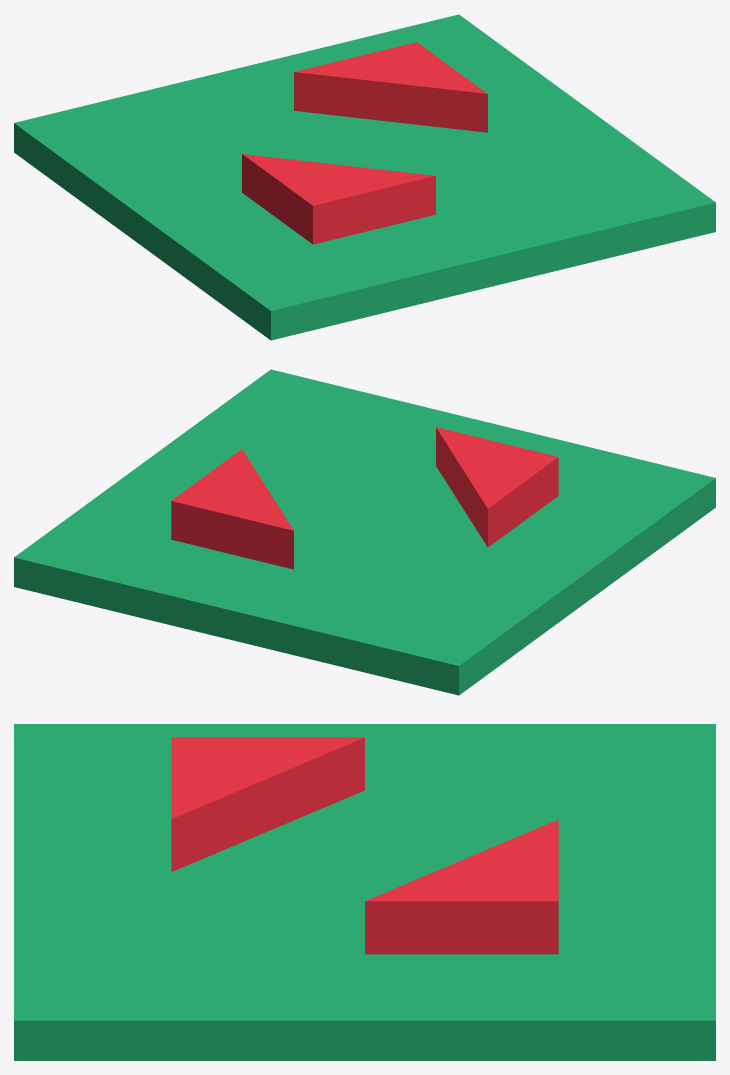
The model's file is obstacleTriangle.obj.
3 views of the same model, one above another, from view 1: azimuth 30°, elevation 25°; view 2: azimuth 150°, elevation 25°; view 3: azimuth 270°, elevation 25° (orthographic). The views are drawn at different scales.
Parts seen in each view (by area): view 1: obstacleTriangle; view 2: obstacleTriangle; view 3: obstacleTriangle.
Part boxes in pixels (left/top/right/bottom): obstacleTriangle: left=14, top=14, right=715, bottom=340; obstacleTriangle: left=14, top=369, right=715, bottom=695; obstacleTriangle: left=14, top=724, right=715, bottom=1060.
Bounding box in the file's own units: 0.9999 × 0.1467 × 0.9999.
